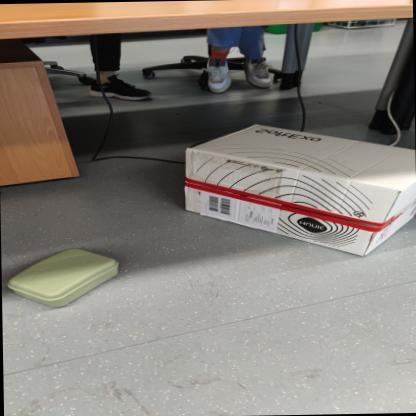box: (143, 112, 416, 258), (2, 236, 126, 318)
